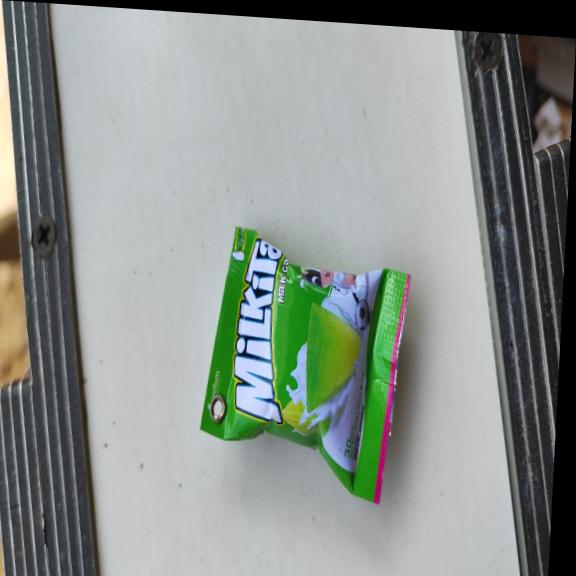Plastik: (197, 220, 413, 505)
